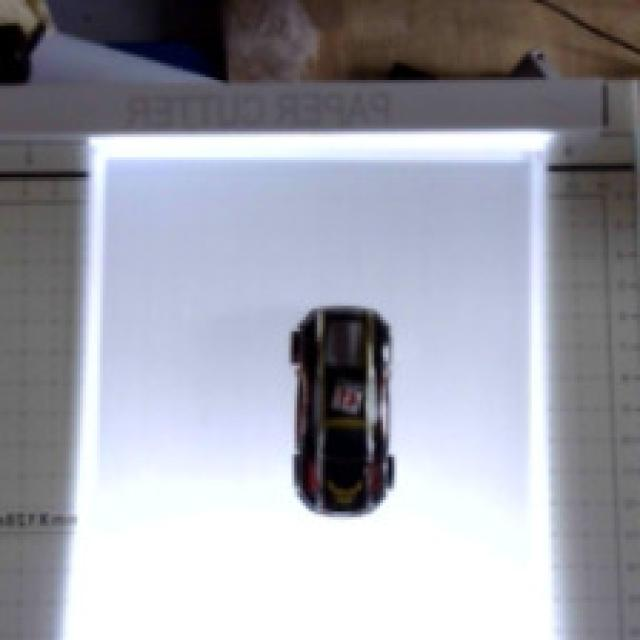Red Car: (240, 276, 442, 555)
